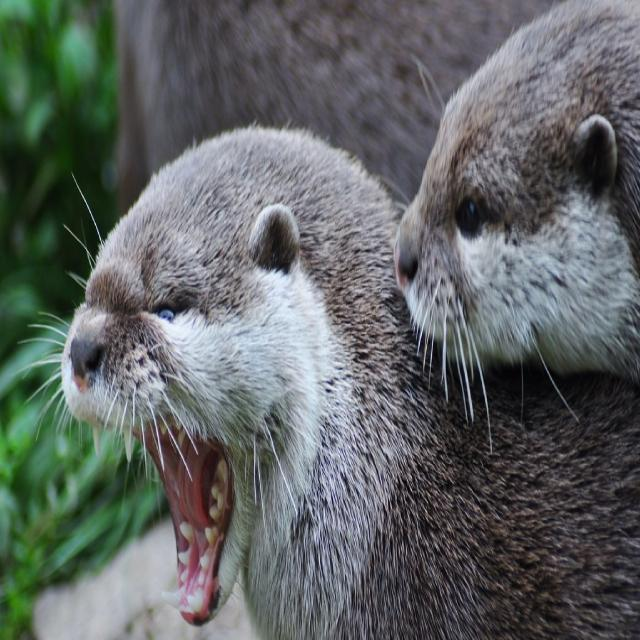otter: (61, 126, 640, 640), (397, 1, 640, 375)
